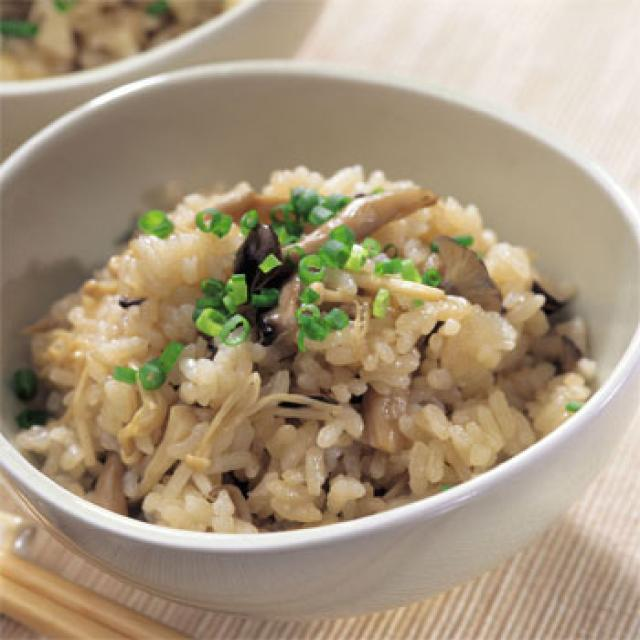米饭主食: (28, 178, 585, 524)
